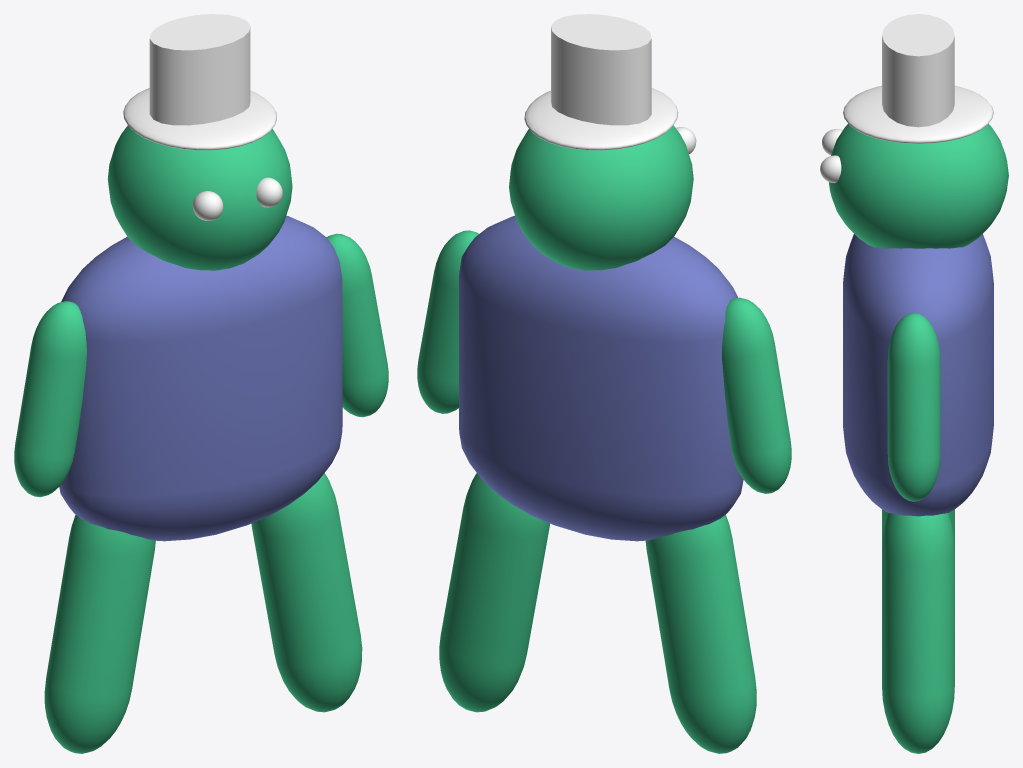
Rendered from Player..fbx.
The picture shows the model from 3 angles, left to right: view 1: azimuth 30°, elevation 25°; view 2: azimuth 150°, elevation 25°; view 3: azimuth 270°, elevation 25°; orthographic projection. The views are drawn at different scales.
Parts seen in each view (by area): view 1: Body, Head, feet, feet__1_, Hat, hand__1_, hand, Eye, Eye__1_; view 2: Body, Head, feet, feet__1_, Hat, hand__1_, hand; view 3: Body, Head, feet__1_, Hat, hand, Eye__1_.
Part boxes in pixels (box(x1,y1,x2,y2)): Body: box(59, 215, 342, 541); Head: box(107, 125, 292, 270); feet: box(44, 514, 155, 753); feet__1_: box(251, 473, 362, 712); Hat: box(123, 14, 276, 150); hand__1_: box(14, 301, 86, 497); hand: box(326, 233, 388, 417); Eye: box(192, 191, 223, 220); Eye__1_: box(256, 177, 282, 207); Body: box(459, 215, 743, 541); Head: box(509, 125, 693, 270); feet: box(645, 514, 756, 753); feet__1_: box(439, 473, 549, 712); Hat: box(524, 14, 678, 150); hand__1_: box(722, 297, 791, 493); hand: box(417, 230, 478, 413); Body: box(843, 234, 993, 516); Head: box(829, 123, 1008, 248); feet__1_: box(882, 513, 954, 753); Hat: box(843, 14, 993, 143); hand: box(887, 313, 940, 501); Eye__1_: box(820, 155, 841, 183).
Size of the model in its own units: 1684 by 3098 by 804.
